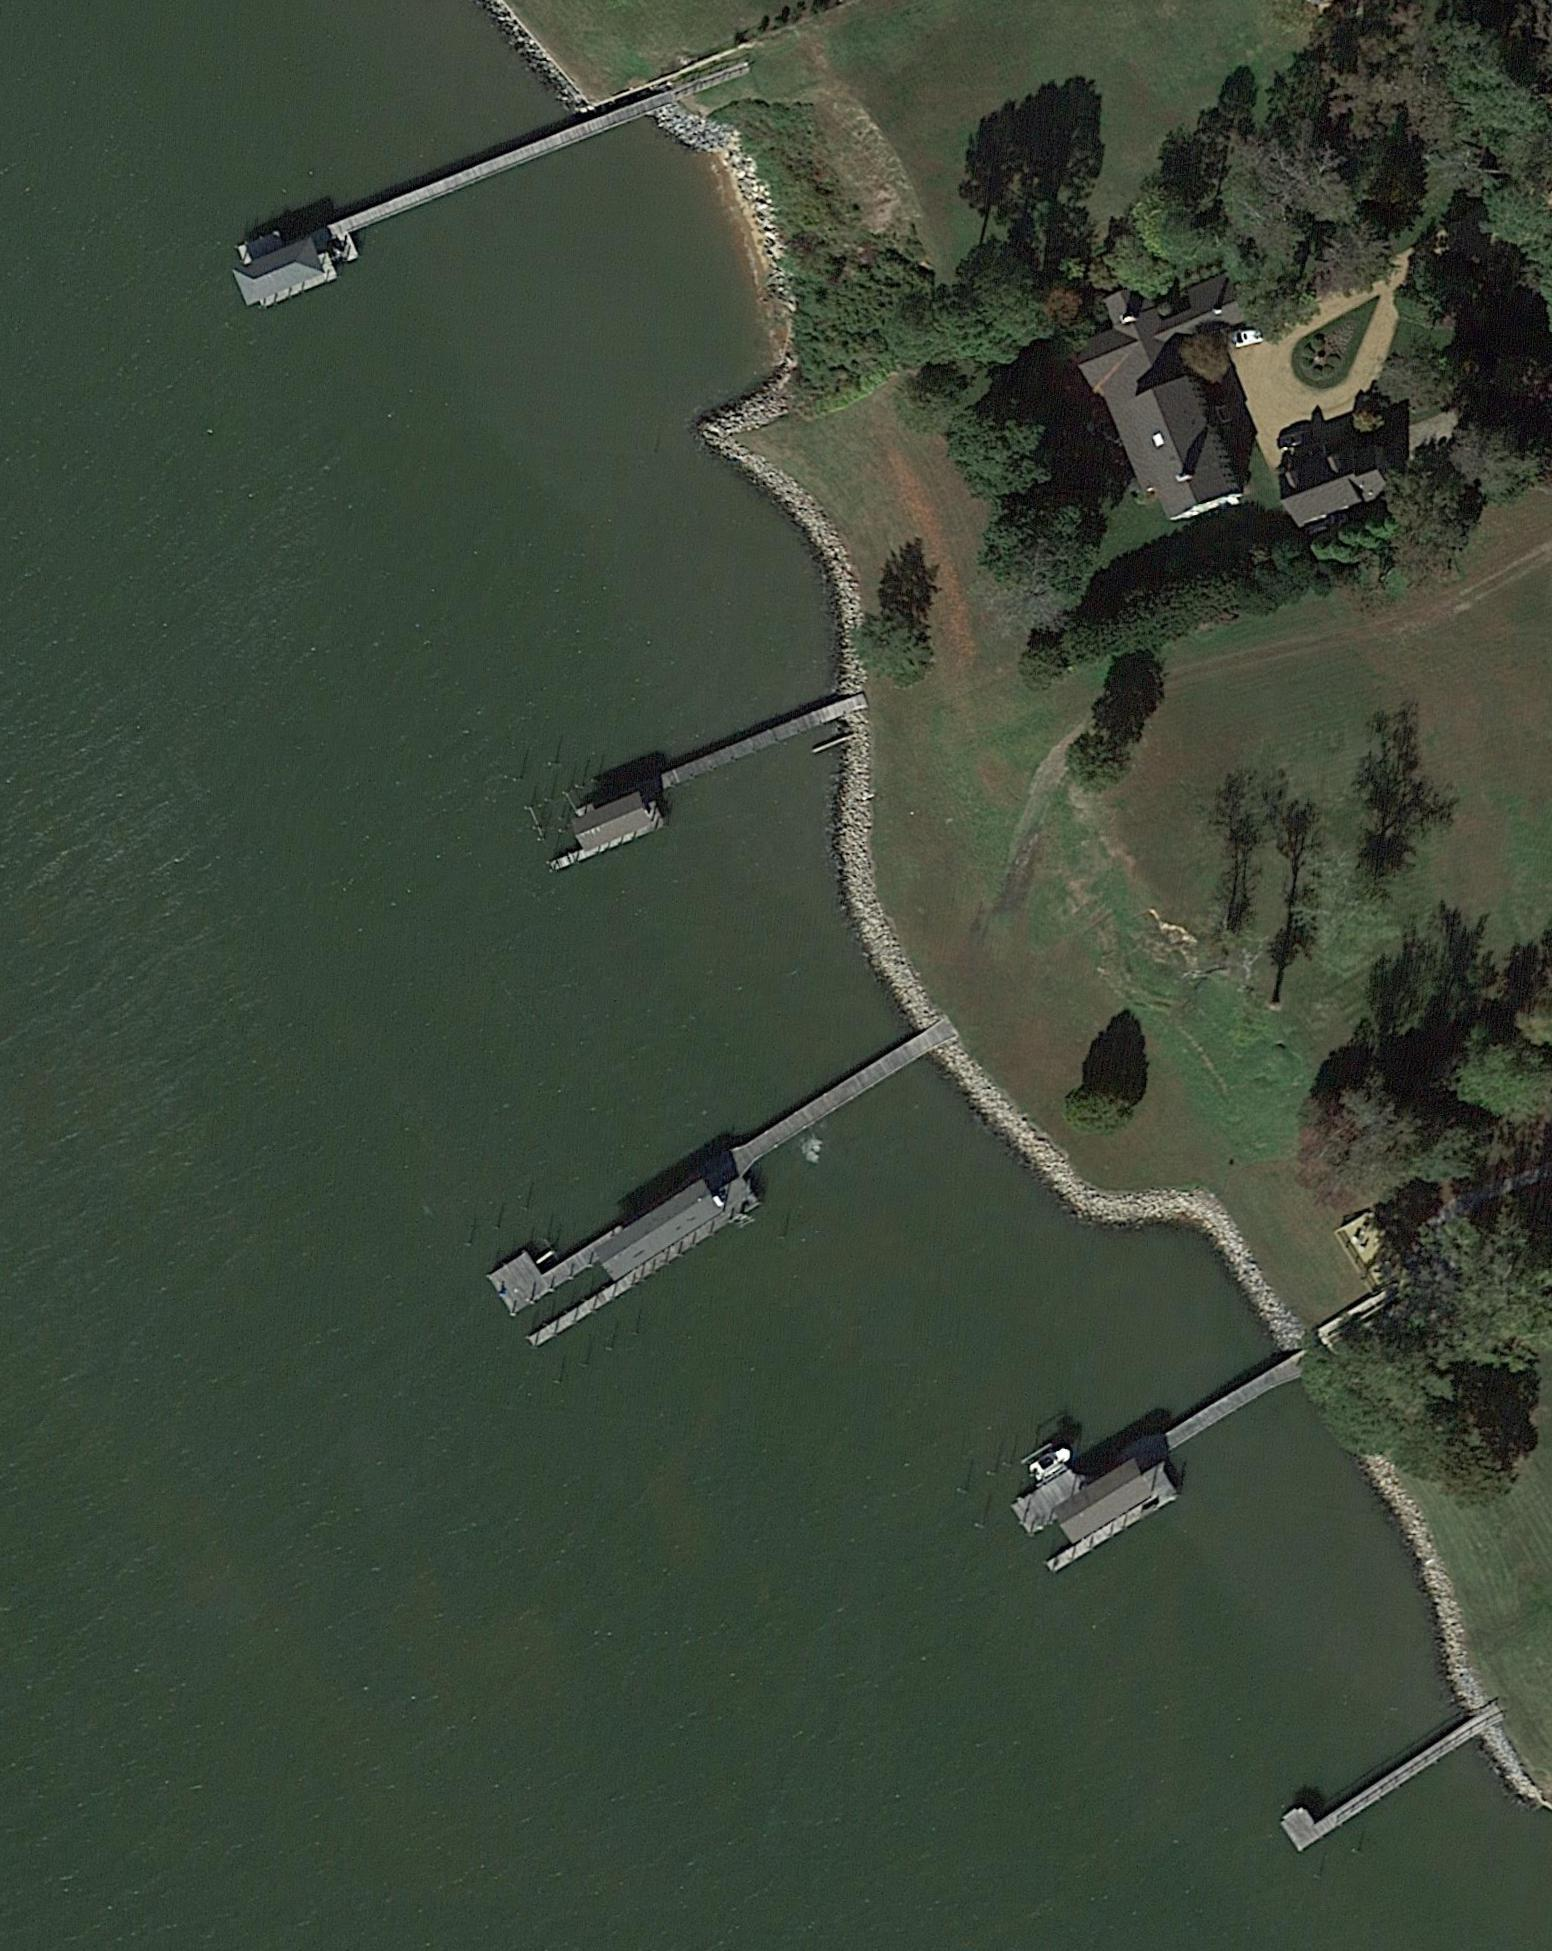harbor: (488, 1017, 939, 1351), (223, 108, 600, 317), (1010, 1344, 1310, 1580), (531, 706, 847, 877), (1276, 1701, 1478, 1858)
ship: (1025, 1438, 1078, 1485)
